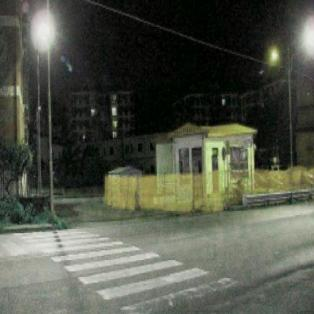Paso de Cebra: (76, 252, 214, 308)
